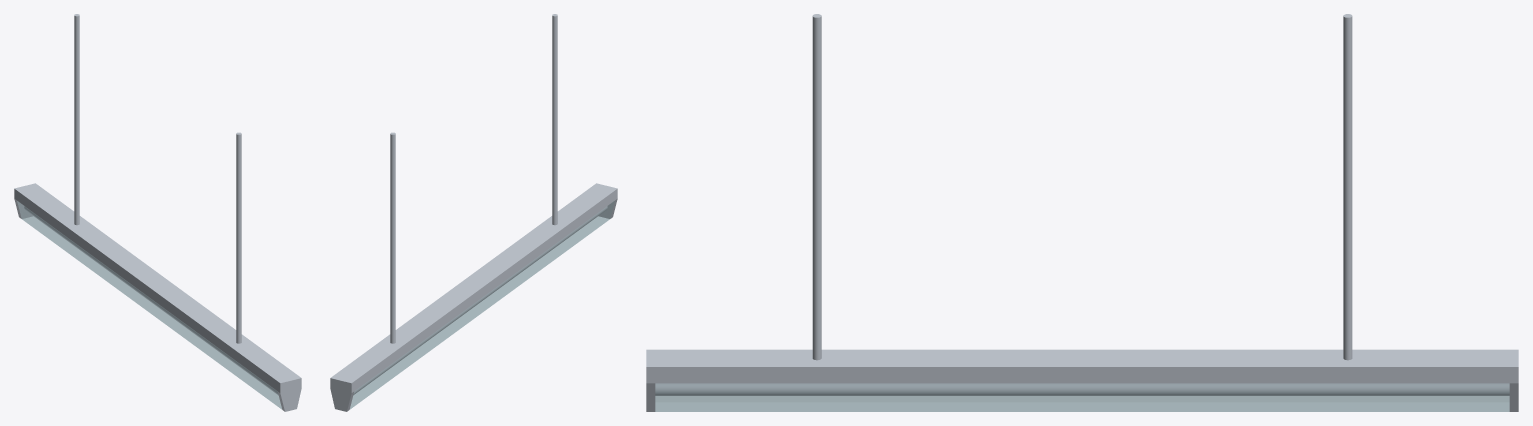
File: Single+Tube+Light.obj
3 renders of one model, left to right at view 1: azimuth 30°, elevation 25°; view 2: azimuth 150°, elevation 25°; view 3: azimuth 270°, elevation 25°, orthographic. The views are drawn at different scales.
Visible parts, largest first — view 1: Mesh6 Group7 Group1 Model, Mesh3 Group4 Group1 Model, Mesh1 Group2 Group1 Model, Mesh2 Group3 Group1 Model, Mesh5 Group6 Group1 Model, Mesh4 Group5 Group1 Model, Mesh7 Group8 Group1 Model; view 2: Mesh6 Group7 Group1 Model, Mesh3 Group4 Group1 Model, Mesh1 Group2 Group1 Model, Mesh2 Group3 Group1 Model, Mesh5 Group6 Group1 Model, Mesh7 Group8 Group1 Model, Mesh4 Group5 Group1 Model; view 3: Mesh6 Group7 Group1 Model, Mesh3 Group4 Group1 Model, Mesh5 Group6 Group1 Model, Mesh1 Group2 Group1 Model, Mesh2 Group3 Group1 Model.
Part boxes in pixels (x1=…): Mesh6 Group7 Group1 Model: x1=17, y1=185, x2=298, y2=390; Mesh3 Group4 Group1 Model: x1=17, y1=201, x2=282, y2=409; Mesh1 Group2 Group1 Model: x1=74, y1=14, x2=79, y2=225; Mesh2 Group3 Group1 Model: x1=236, y1=132, x2=241, y2=343; Mesh5 Group6 Group1 Model: x1=24, y1=206, x2=278, y2=394; Mesh4 Group5 Group1 Model: x1=277, y1=376, x2=301, y2=411; Mesh7 Group8 Group1 Model: x1=14, y1=183, x2=37, y2=218; Mesh6 Group7 Group1 Model: x1=333, y1=185, x2=614, y2=390; Mesh3 Group4 Group1 Model: x1=349, y1=201, x2=614, y2=409; Mesh1 Group2 Group1 Model: x1=390, y1=132, x2=395, y2=343; Mesh2 Group3 Group1 Model: x1=552, y1=14, x2=557, y2=225; Mesh5 Group6 Group1 Model: x1=353, y1=206, x2=607, y2=394; Mesh7 Group8 Group1 Model: x1=330, y1=376, x2=354, y2=411; Mesh4 Group5 Group1 Model: x1=594, y1=183, x2=617, y2=218; Mesh6 Group7 Group1 Model: x1=655, y1=349, x2=1509, y2=383; Mesh3 Group4 Group1 Model: x1=655, y1=383, x2=1509, y2=411; Mesh5 Group6 Group1 Model: x1=655, y1=383, x2=1509, y2=395; Mesh1 Group2 Group1 Model: x1=1343, y1=14, x2=1352, y2=360; Mesh2 Group3 Group1 Model: x1=812, y1=14, x2=821, y2=360.
Bounding box in the file's own units: 2.25 × 24 × 48.5.
